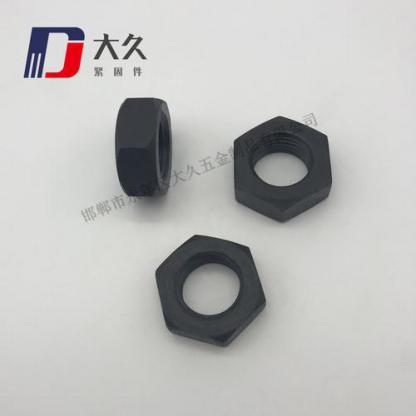FOD: (150, 230, 269, 349), (230, 117, 331, 224), (111, 98, 175, 202)
